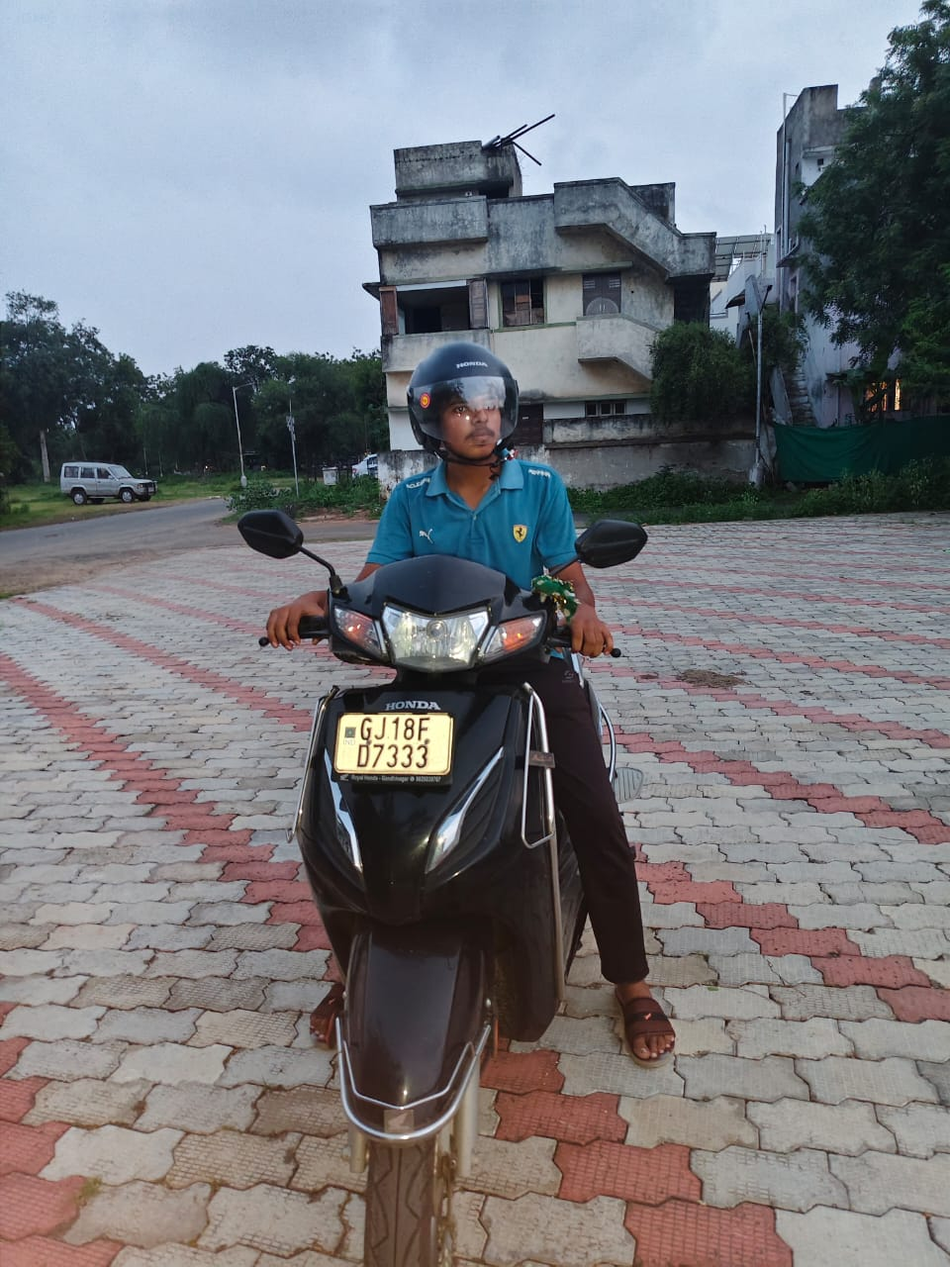BikeWithRider: (222, 330, 690, 1265)
Helmet: (393, 333, 533, 473)
